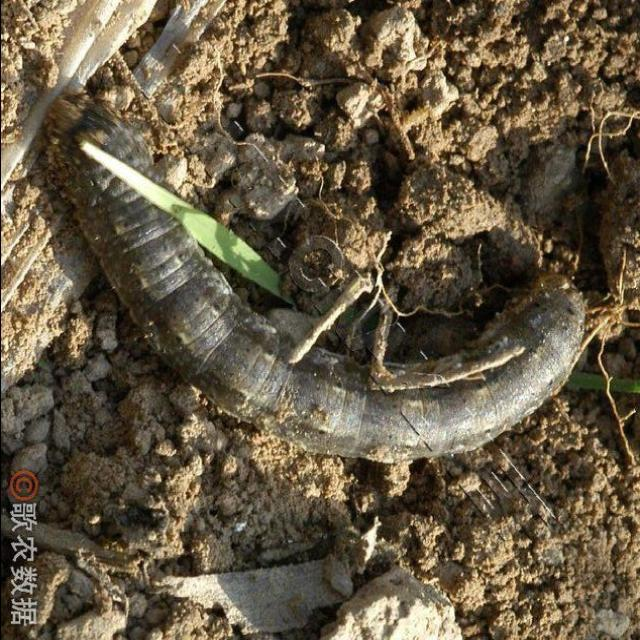black cutworm: (54, 110, 600, 458)
